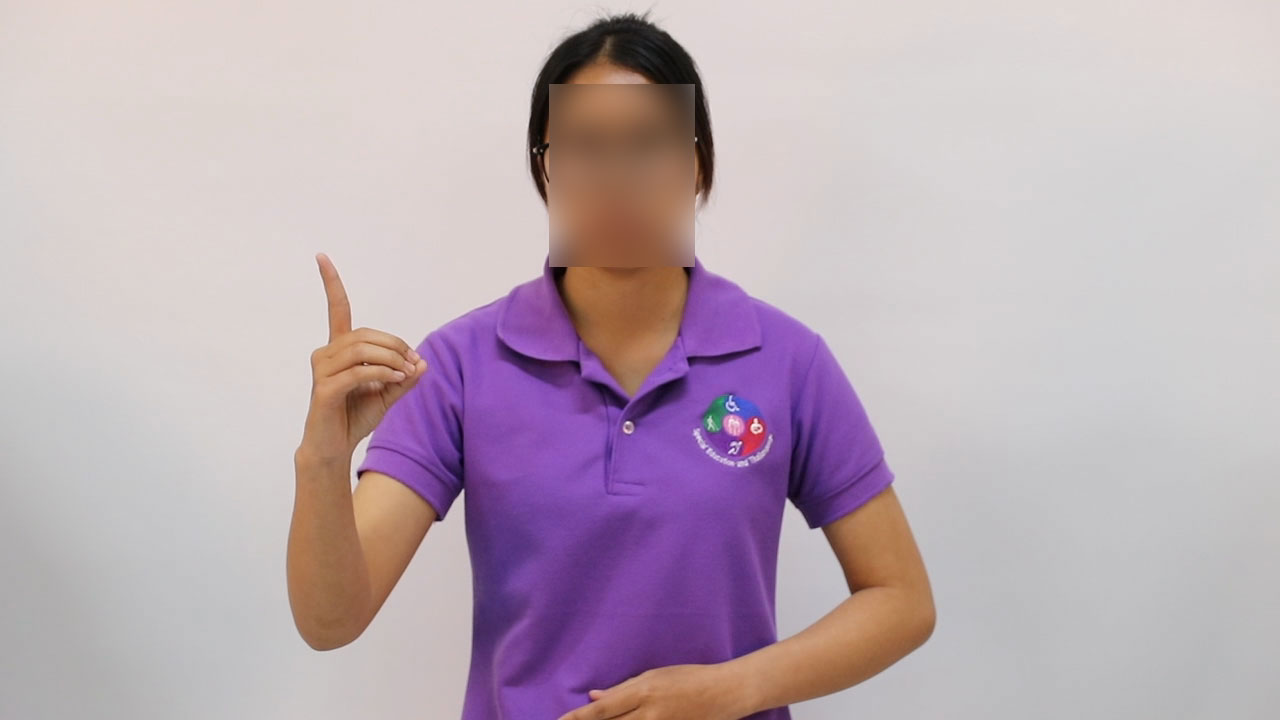dor: (291, 238, 436, 455)
